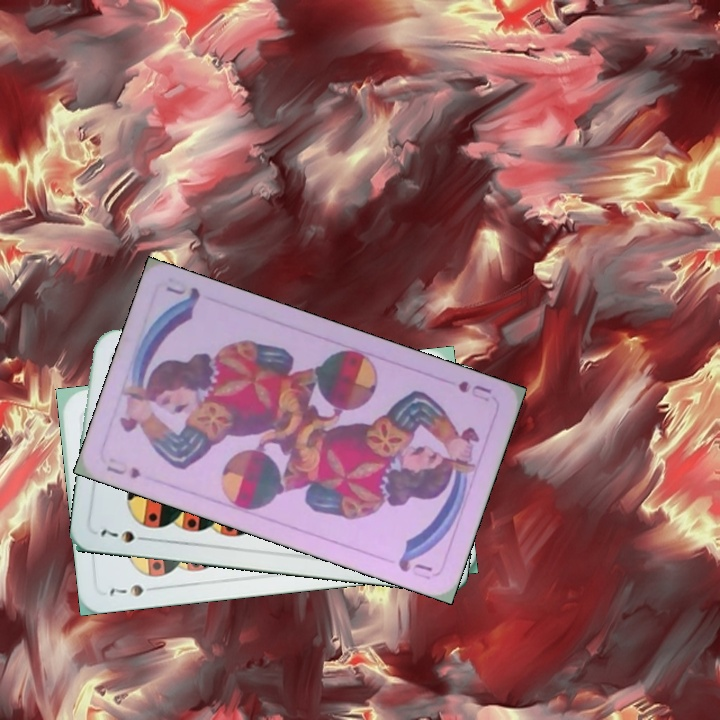S7: (96, 525, 153, 546), (105, 580, 146, 599)
SU: (454, 376, 494, 405), (102, 461, 144, 482)
